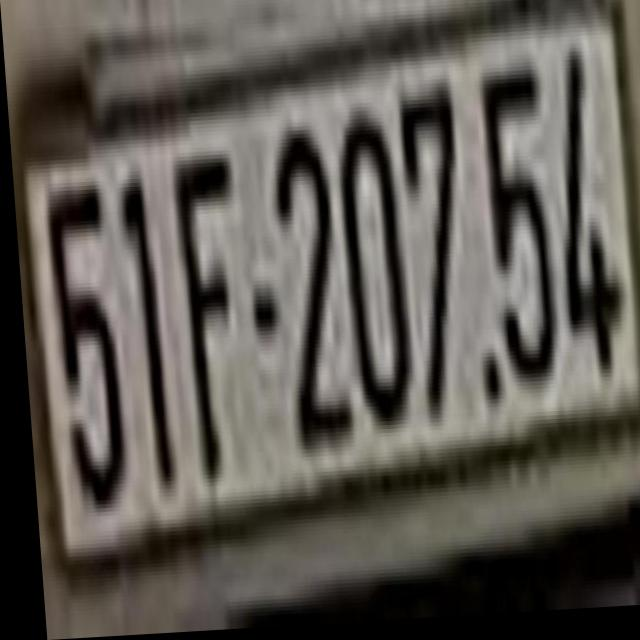0: (334, 118, 408, 446)
1: (112, 144, 172, 507)
2: (265, 125, 349, 462)
4: (545, 34, 623, 382)
5: (476, 45, 555, 401), (41, 170, 123, 511)
7: (396, 84, 470, 424)
F: (164, 129, 247, 501)
